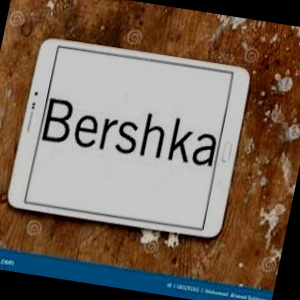bershka: (183, 66, 260, 178)
